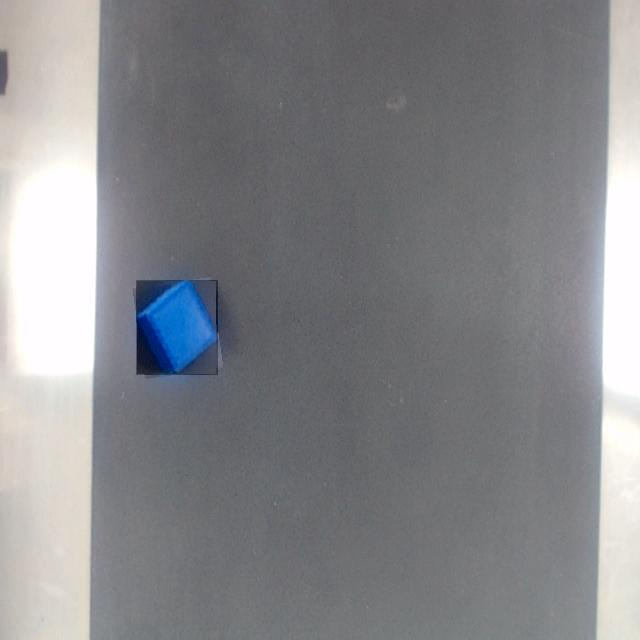Azul: (136, 281, 218, 375)
